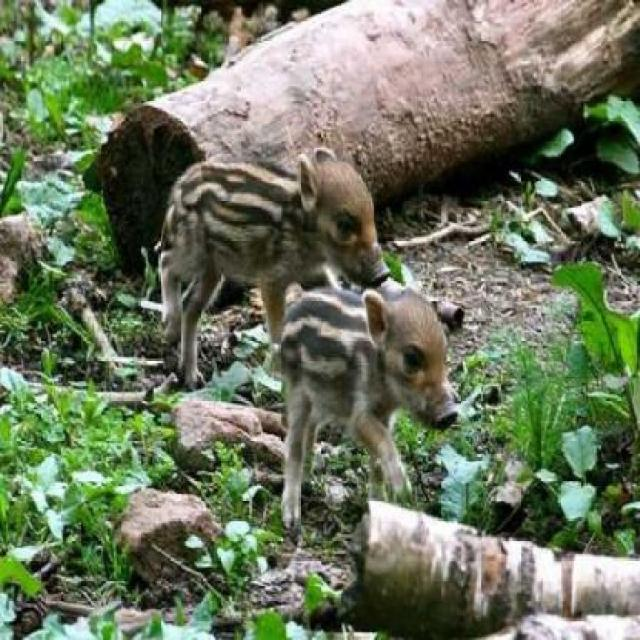pig: (103, 113, 400, 354), (256, 272, 472, 484)
